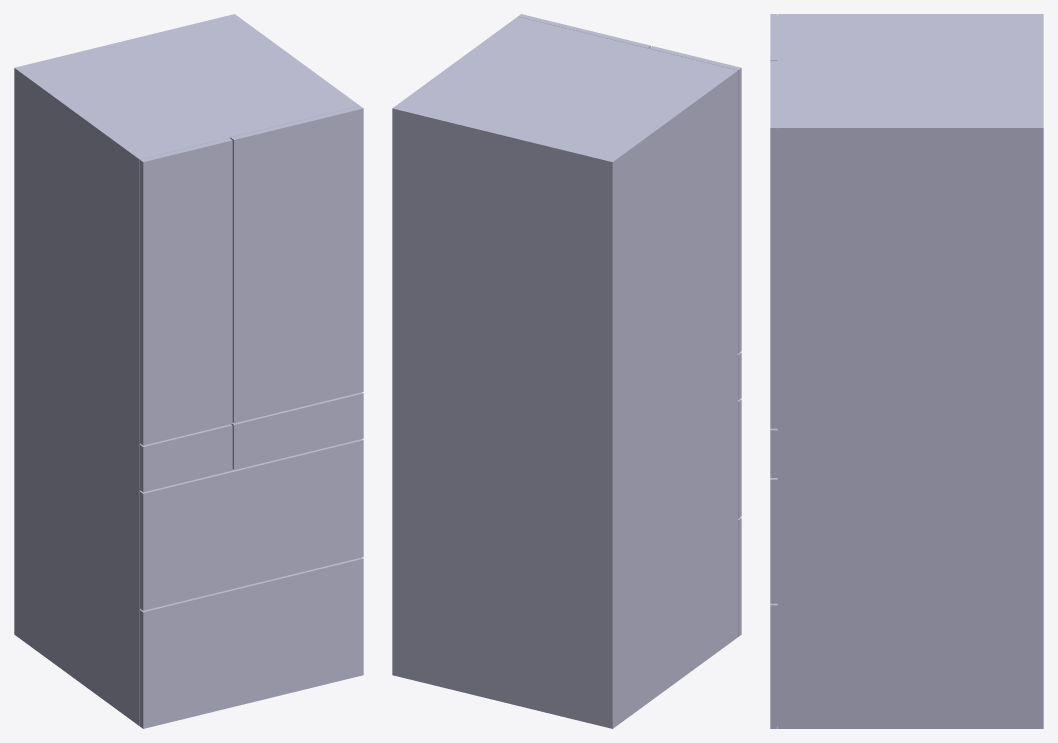
Rendered from refrigerator.gltf.
The picture shows the model from 3 angles, left to right: view 1: azimuth 30°, elevation 25°; view 2: azimuth 150°, elevation 25°; view 3: azimuth 270°, elevation 25°; orthographic projection. The views are drawn at different scales.
Visible parts, largest first — view 1: refrigerator_clone; view 2: refrigerator_clone; view 3: refrigerator_clone.
Boxes of the visible parts, bbox=[...] form: refrigerator_clone: bbox=[14, 14, 363, 728]; refrigerator_clone: bbox=[392, 14, 741, 728]; refrigerator_clone: bbox=[770, 14, 1043, 728].
Size of the model in its own units: 0.74 by 1.82 by 0.75.
